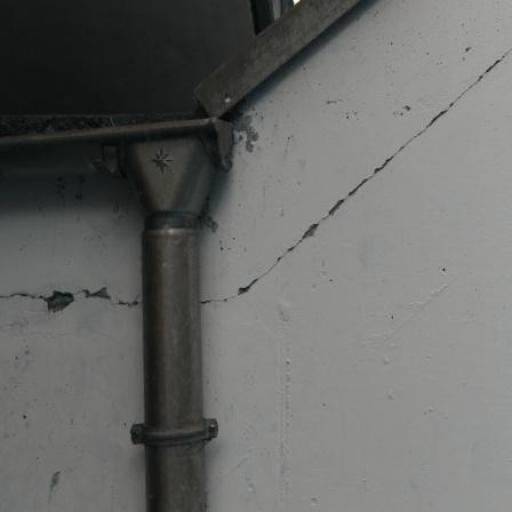spalling: (201, 47, 512, 307), (3, 282, 139, 311)
